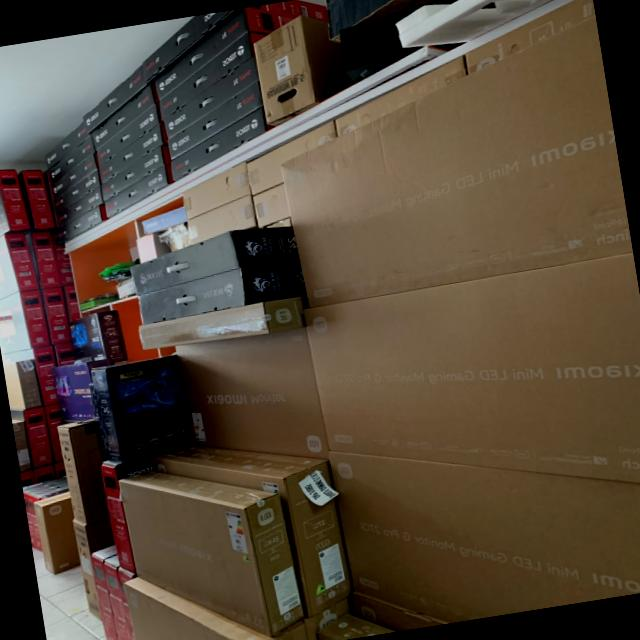caja-monitor: (280, 18, 633, 307), (303, 255, 640, 483), (331, 453, 640, 631), (152, 445, 350, 618), (119, 471, 305, 638), (177, 329, 329, 458), (152, 8, 296, 102), (131, 226, 299, 295), (124, 577, 308, 640), (90, 355, 191, 464), (335, 56, 467, 137), (140, 262, 306, 324), (159, 33, 268, 121), (467, 0, 596, 74), (140, 296, 307, 349), (162, 57, 259, 140), (170, 107, 275, 183), (166, 81, 263, 161), (141, 10, 237, 85), (246, 121, 337, 196), (101, 456, 155, 574), (56, 417, 109, 525), (82, 65, 147, 134), (72, 518, 115, 620), (91, 84, 155, 151), (94, 104, 160, 168), (99, 125, 168, 185), (32, 492, 80, 574), (101, 146, 171, 201), (183, 163, 251, 219), (104, 165, 175, 217), (3, 345, 59, 407), (189, 195, 257, 245), (0, 289, 51, 355), (69, 310, 128, 364), (28, 480, 68, 551), (11, 406, 54, 469), (90, 544, 118, 640), (0, 233, 40, 300), (17, 170, 55, 231), (45, 121, 91, 170), (48, 137, 95, 184), (25, 230, 62, 289), (103, 555, 128, 640), (50, 172, 101, 213), (56, 205, 108, 245), (0, 169, 30, 238), (239, 0, 328, 23), (317, 614, 395, 640), (51, 154, 98, 197), (4, 359, 42, 410), (307, 596, 351, 640), (56, 187, 103, 228), (41, 286, 71, 345), (252, 184, 291, 228), (52, 230, 74, 287), (120, 568, 137, 640), (44, 403, 64, 462), (63, 284, 82, 322), (23, 475, 66, 490), (55, 342, 74, 367), (33, 464, 56, 483)
